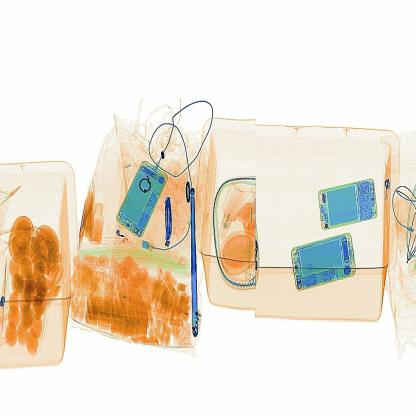knife: (158, 189, 184, 247)
